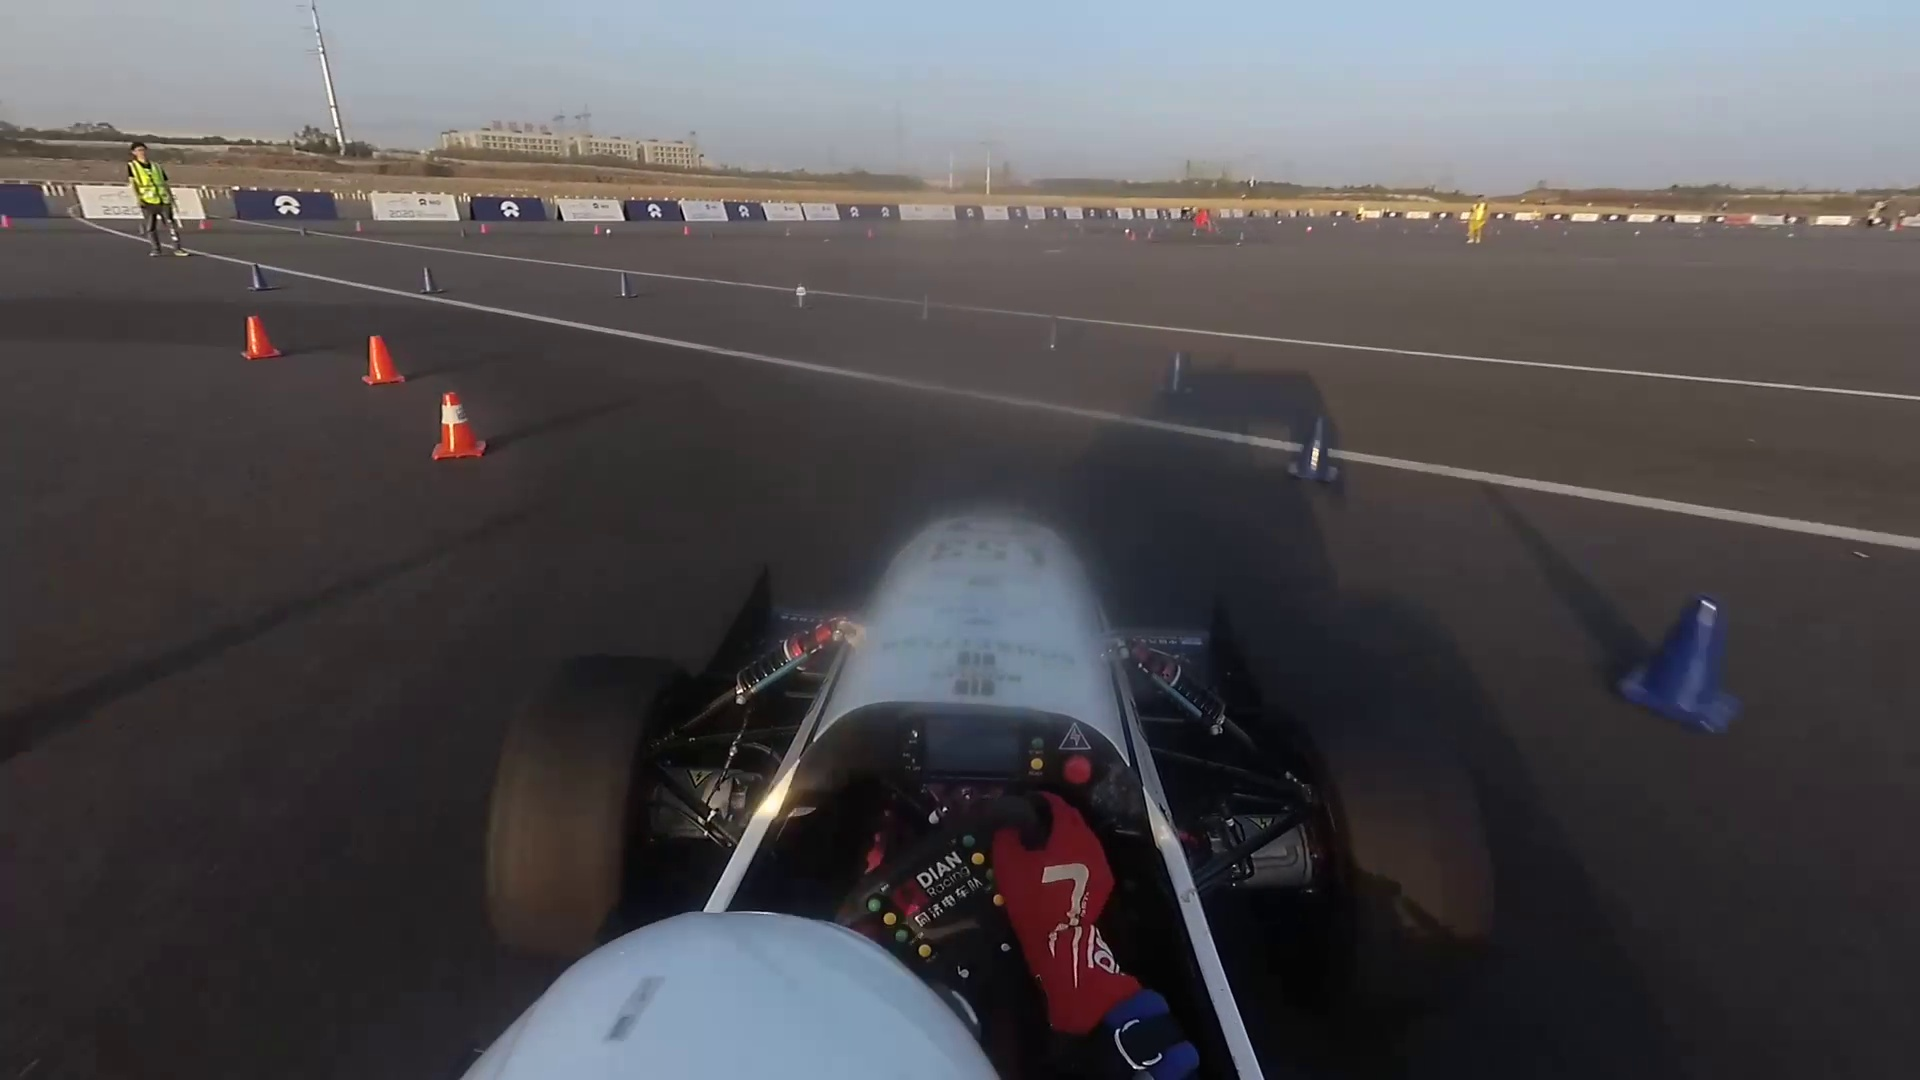blue_cone: (1647, 587, 1764, 760), (1145, 338, 1215, 421), (1287, 407, 1349, 497), (410, 261, 447, 295), (782, 284, 818, 316), (243, 261, 276, 293), (615, 266, 638, 301)
red_cone: (423, 385, 489, 483), (237, 299, 285, 371), (355, 324, 404, 386)
